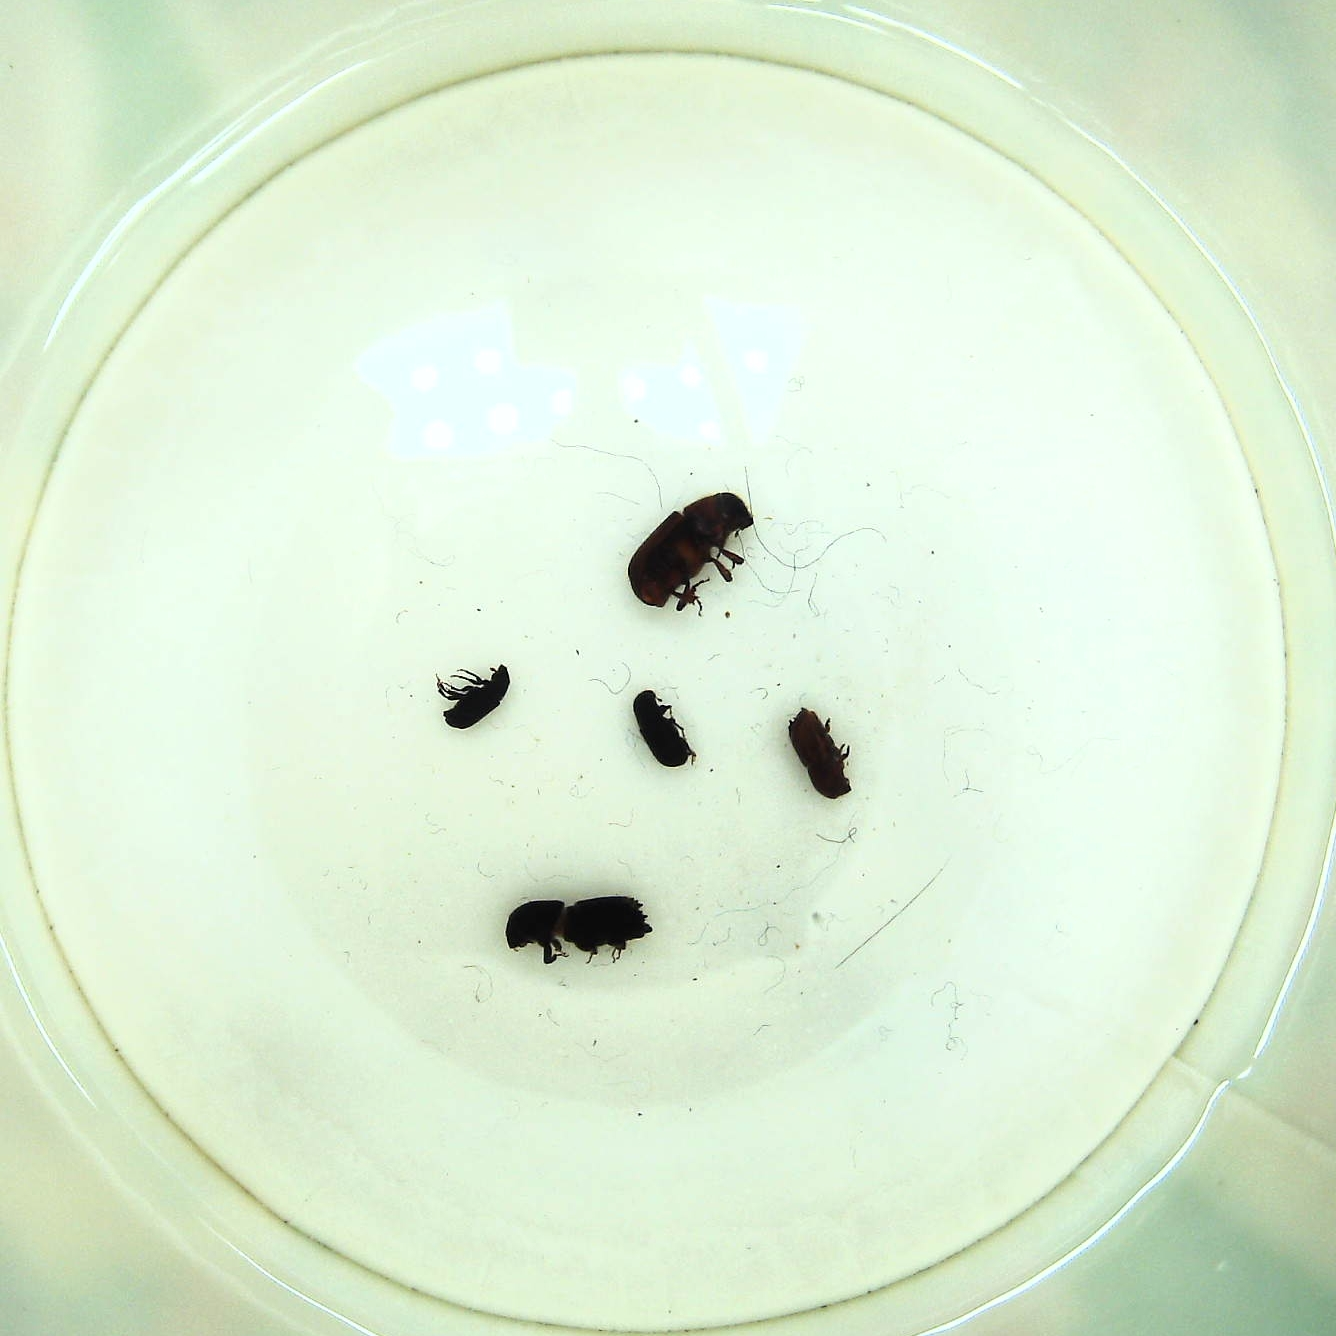Boerner: (500, 893, 656, 967)
Leconte: (622, 491, 756, 610)
armandi: (432, 663, 518, 729)
coleoptera: (624, 685, 697, 771)
linnaeus: (783, 700, 856, 803)
